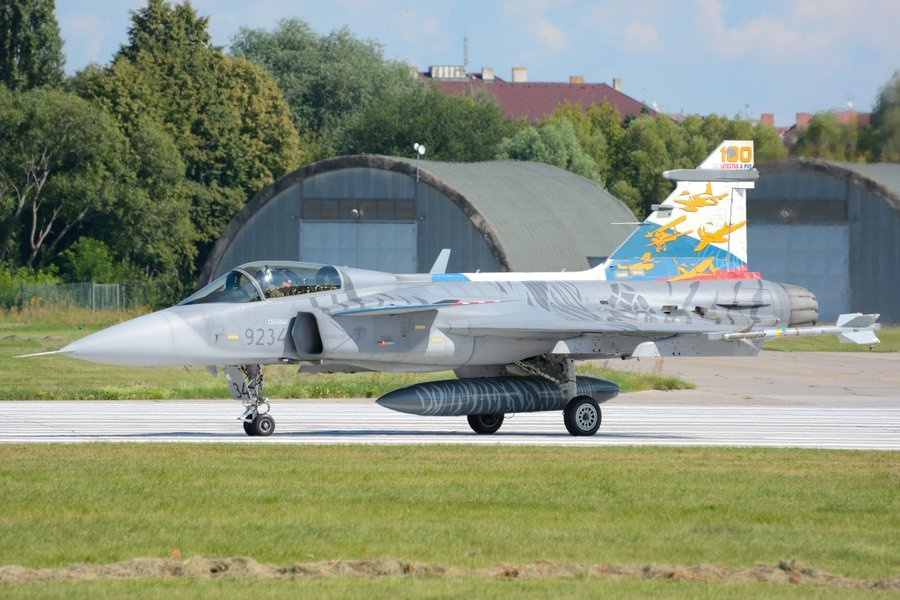JAS39: (10, 140, 881, 436)
